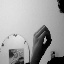o: (32, 24, 53, 54)
